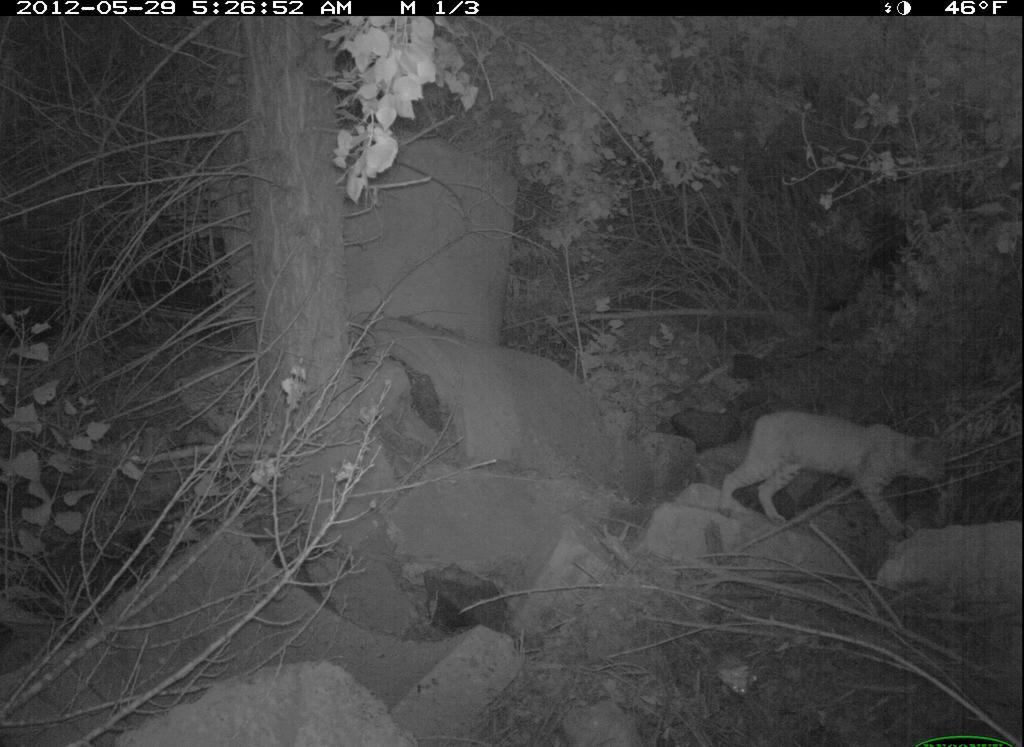bobcat: (719, 405, 954, 542)
